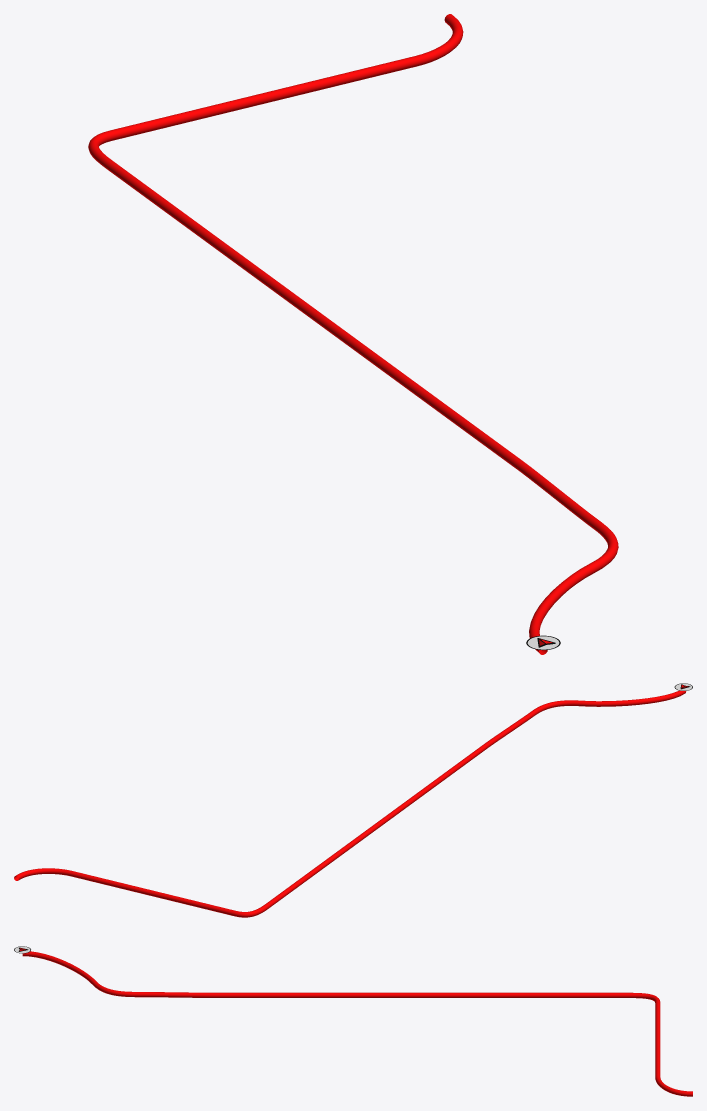
File: route_a2f6e5ed-0e88-40ef-970f-73a7944c89f2_de_single.glb
3 renders of one model, top to bottom at view 1: azimuth 30°, elevation 25°; view 2: azimuth 150°, elevation 25°; view 3: azimuth 270°, elevation 25°, orthographic. The views are drawn at different scales.
Parts seen in each view (by area): view 1: B7, Abteil 2; view 2: B7, Abteil 2; view 3: B7, Abteil 2.
Part boxes in pixels (x1,y1,x2,y2): B7, Abteil 2: [88, 14, 618, 654]; B7, Abteil 2: [14, 690, 686, 917]; B7, Abteil 2: [22, 951, 692, 1096].
Size of the model in its own units: 5.19 by 0.1062 by 10.25.
